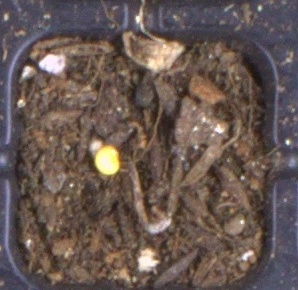chilli seed: (94, 144, 120, 175)
